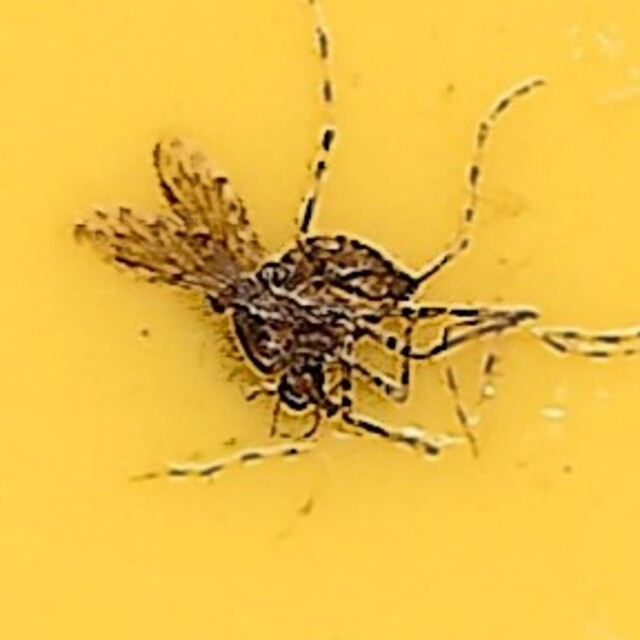Nematocera: (222, 225, 418, 415)
